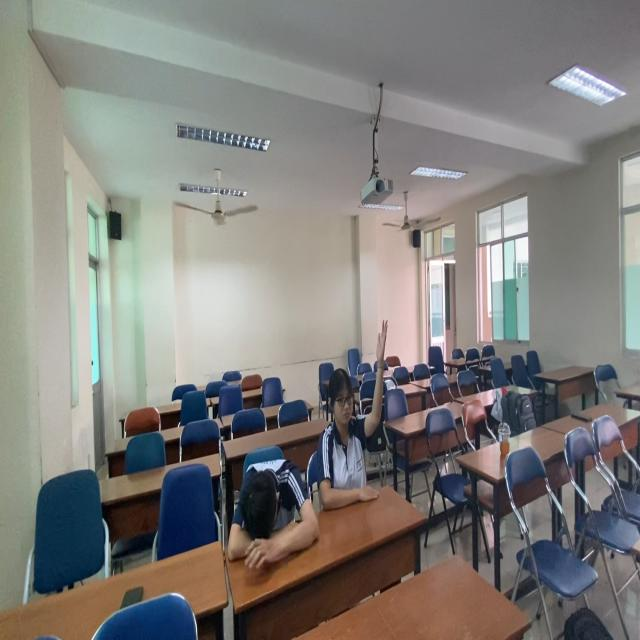raise_hand: (316, 309, 394, 514)
sleep: (216, 444, 338, 593)
